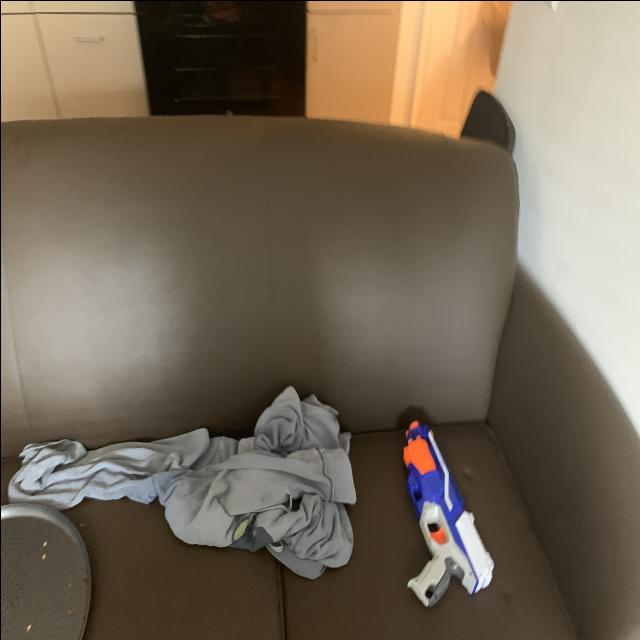nerf-maverik: (395, 410, 496, 622)
